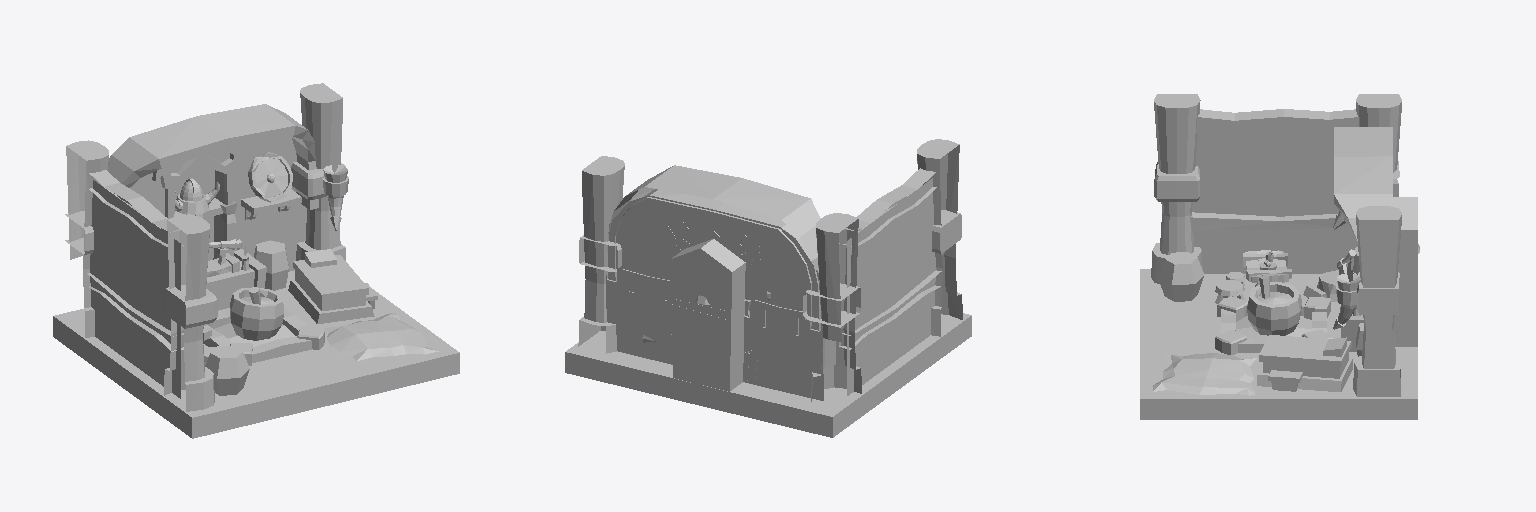
Rendered from vikingroom.obj.
3 renders of one model, left to right at view 1: azimuth 30°, elevation 25°; view 2: azimuth 150°, elevation 25°; view 3: azimuth 270°, elevation 25°, orthographic.
Visible parts, largest first — view 1: mesh_all1; view 2: mesh_all1; view 3: mesh_all1.
Boxes of the visible parts, x1=… form: mesh_all1: x1=53, y1=83, x2=459, y2=438; mesh_all1: x1=565, y1=139, x2=971, y2=437; mesh_all1: x1=1140, y1=94, x2=1419, y2=419.
Size of the model in its own units: 10.36 by 7.32 by 9.41.